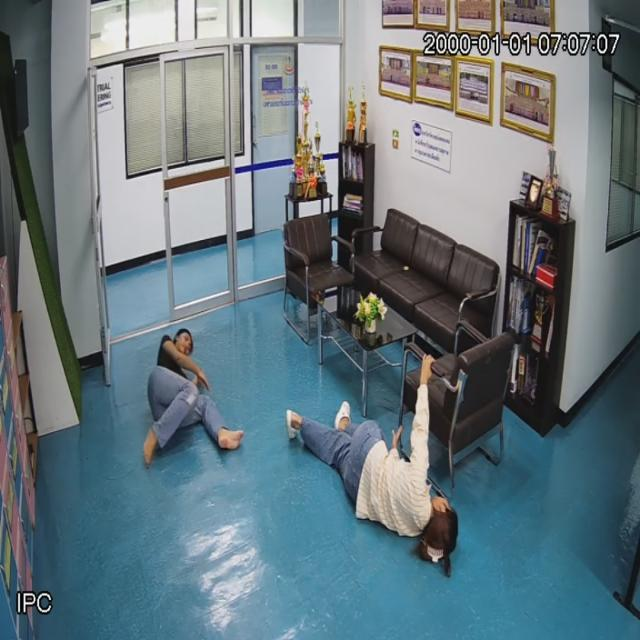fall: (288, 398, 460, 556), (144, 332, 239, 454)
